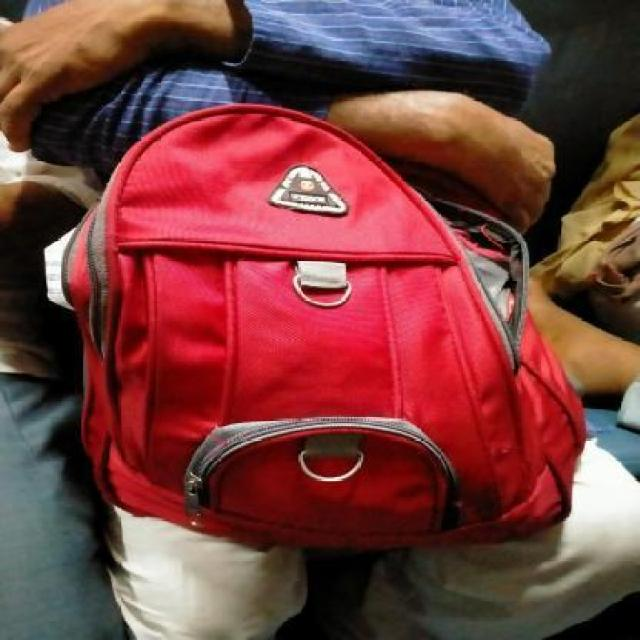backpack: (58, 102, 590, 546)
